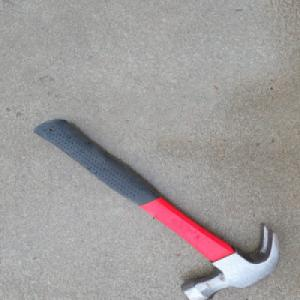Hammer: (28, 111, 276, 289)
